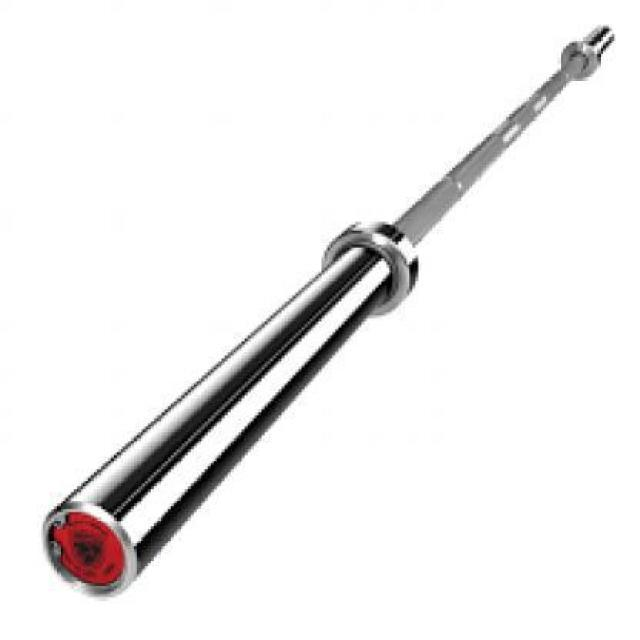Barbell: (26, 475, 180, 623)
